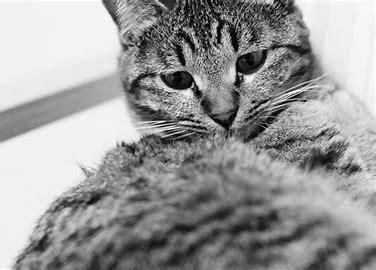cat: (82, 1, 355, 175)
